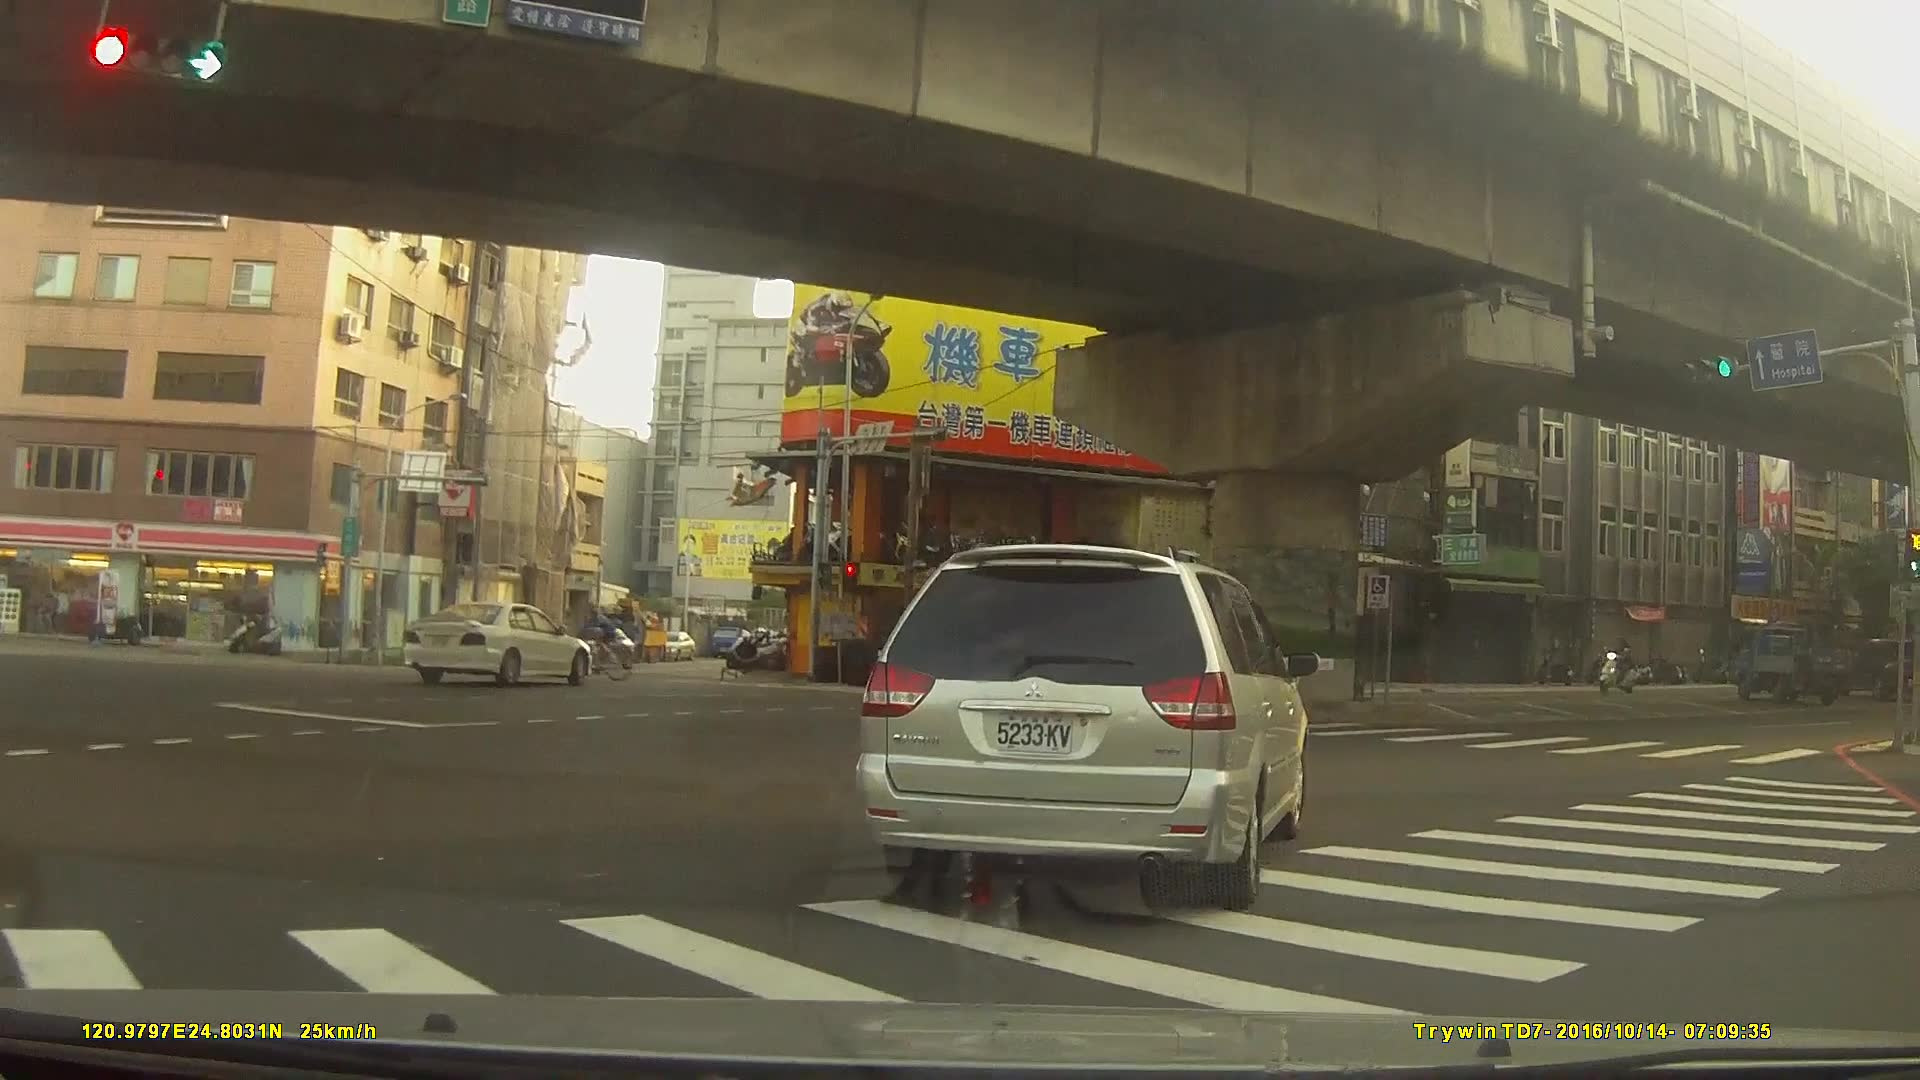rider: (561, 597, 634, 682), (1600, 638, 1642, 693)
vehicle: (855, 543, 1308, 911), (403, 601, 590, 687), (1730, 621, 1854, 704), (783, 636, 857, 678), (657, 630, 697, 661)
